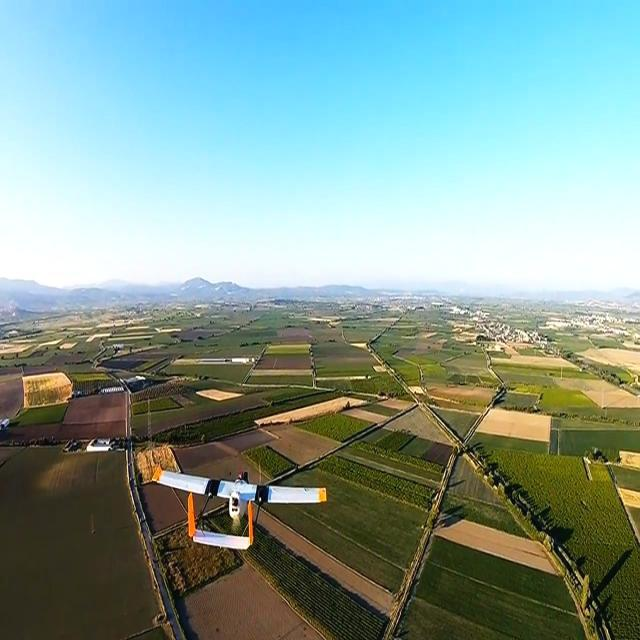iha: (146, 493, 328, 519)
